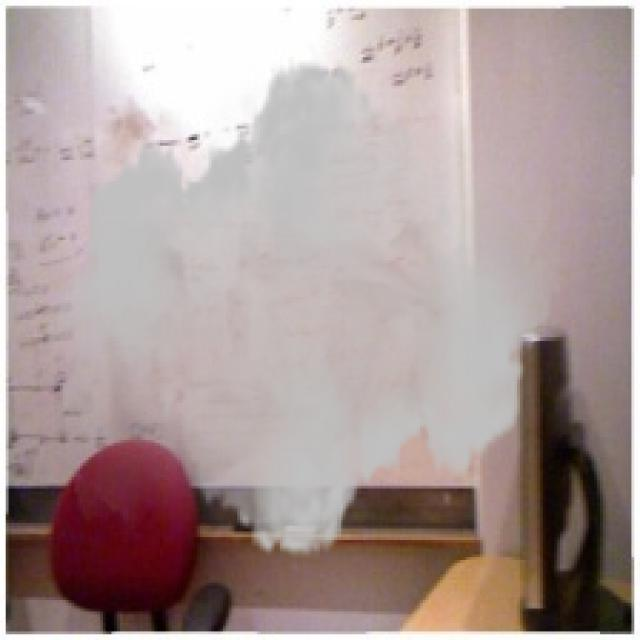Smoke: (46, 40, 563, 577)
